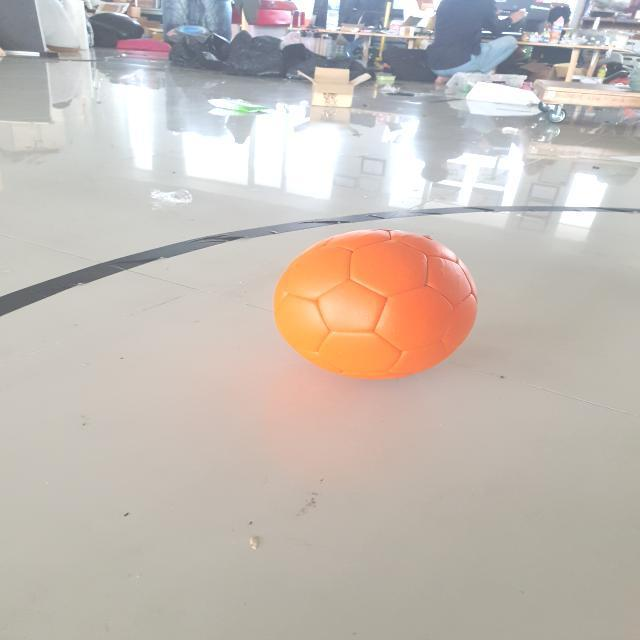bola: (274, 225, 490, 386)
